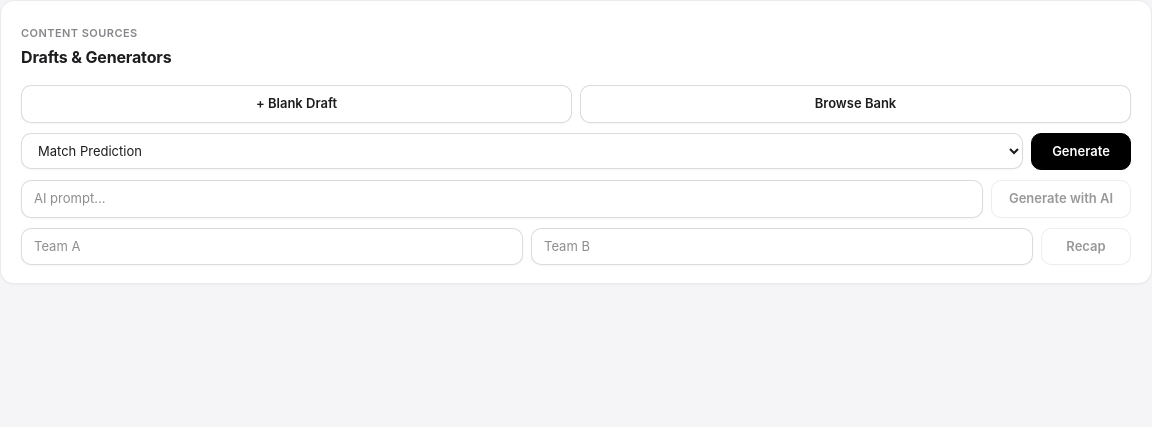
Scenario: SourceBar › badges on-this-day items
Click the button "Browse Bank".
click(856, 104)  # box [580,85,1131,122]
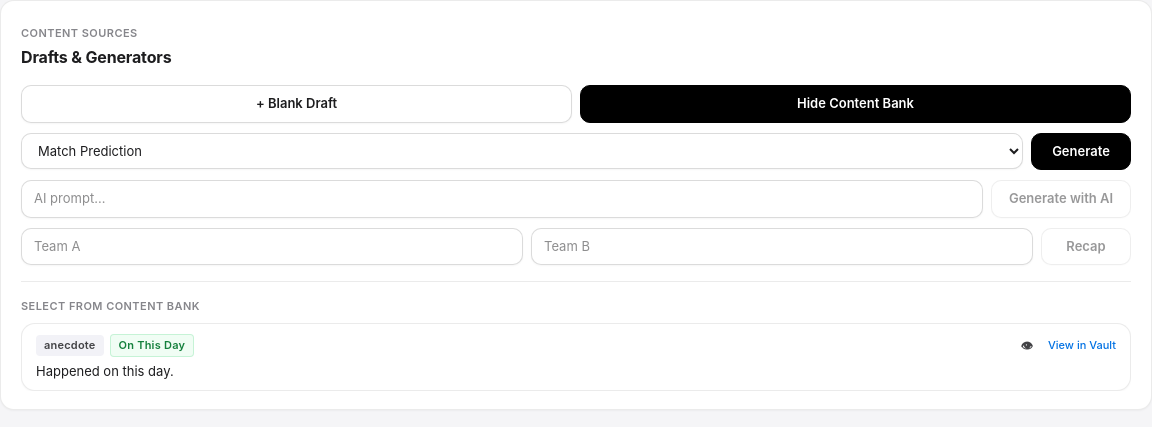
Check: the text "Happened on this day." is shown, box [36,362,174,378]
Check: the text "On This Day" is shown, box [110,334,194,357]
